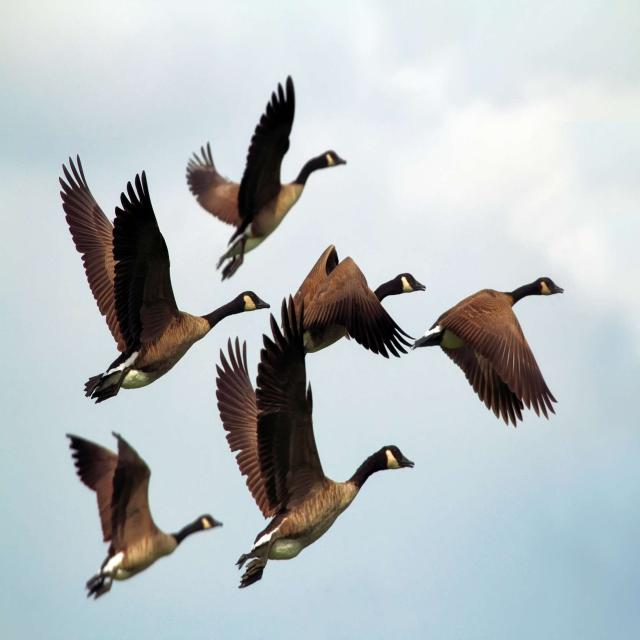bird: (212, 306, 419, 599), (55, 154, 206, 398), (188, 72, 351, 297), (390, 281, 573, 437), (67, 435, 221, 602), (276, 246, 418, 374)
